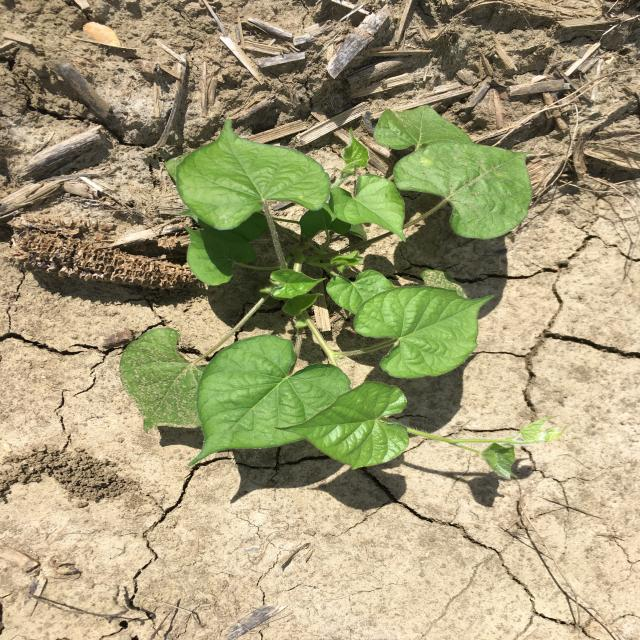MorningGlory: (119, 104, 569, 480)
